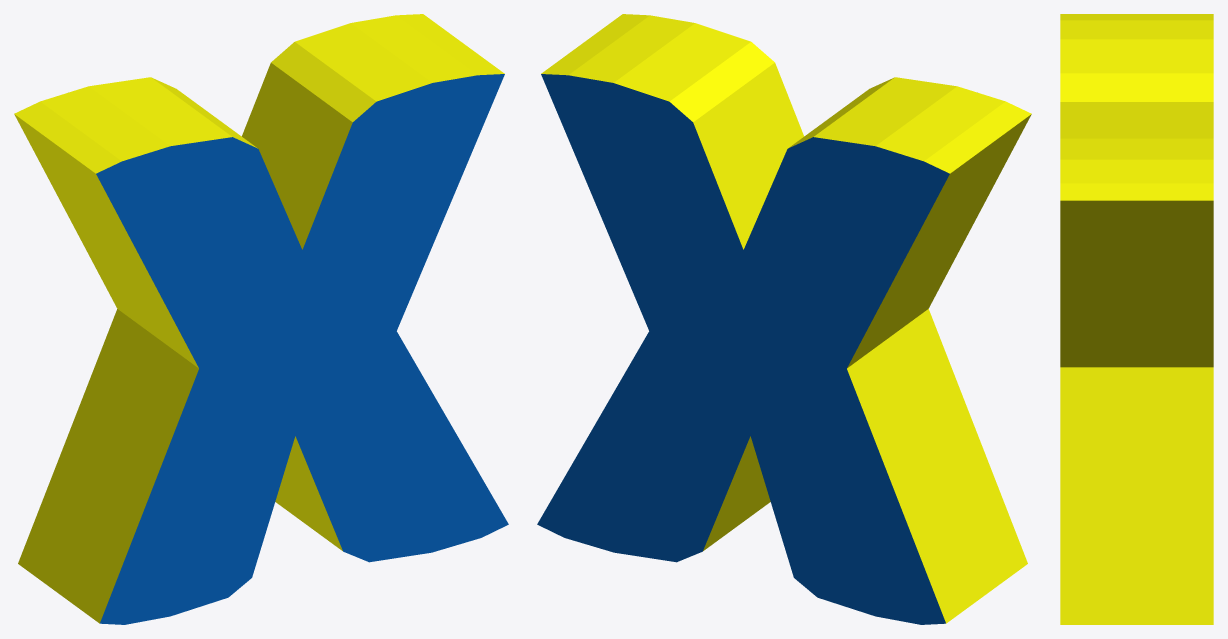
3 renders of one model, left to right at view 1: azimuth 30°, elevation 25°; view 2: azimuth 150°, elevation 25°; view 3: azimuth 270°, elevation 25°, orthographic. The views are drawn at different scales.
Parts seen in each view (by area): view 1: text: ABCDEFGHIJKLMNOPQRSTUVWXYZ01234567891_sep24_blue, text: ABCDEFGHIJKLMNOPQRSTUVWXYZ01234567891_sep24_yellow; view 2: text: ABCDEFGHIJKLMNOPQRSTUVWXYZ01234567891_sep24_blue, text: ABCDEFGHIJKLMNOPQRSTUVWXYZ01234567891_sep24_yellow; view 3: text: ABCDEFGHIJKLMNOPQRSTUVWXYZ01234567891_sep24_yellow.
Boxes of the visible parts, <box> form: text: ABCDEFGHIJKLMNOPQRSTUVWXYZ01234567891_sep24_blue: <box>96,74,508,624</box>; text: ABCDEFGHIJKLMNOPQRSTUVWXYZ01234567891_sep24_yellow: <box>14,14,504,623</box>; text: ABCDEFGHIJKLMNOPQRSTUVWXYZ01234567891_sep24_blue: <box>537,74,949,624</box>; text: ABCDEFGHIJKLMNOPQRSTUVWXYZ01234567891_sep24_yellow: <box>541,14,1031,623</box>; text: ABCDEFGHIJKLMNOPQRSTUVWXYZ01234567891_sep24_yellow: <box>1060,14,1213,624</box>.
Bounding box in the file's own units: 72.81 × 79.21 × 25.
